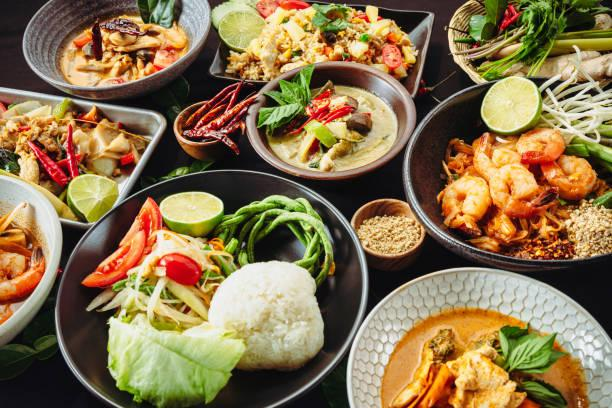Braised Crucian Carp: (59, 171, 365, 407), (402, 78, 609, 270), (346, 262, 612, 408), (246, 61, 415, 182), (21, 1, 209, 102)
